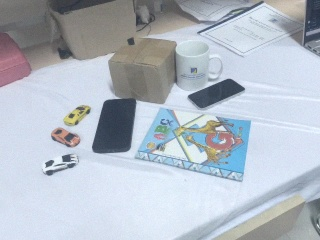book: (123, 102, 257, 185)
box: (47, 1, 138, 61), (109, 38, 176, 104)
cup: (174, 39, 211, 94)
phone: (91, 98, 137, 154), (189, 78, 245, 110)
toy_car: (42, 154, 79, 174), (51, 127, 81, 148), (63, 105, 91, 127)
